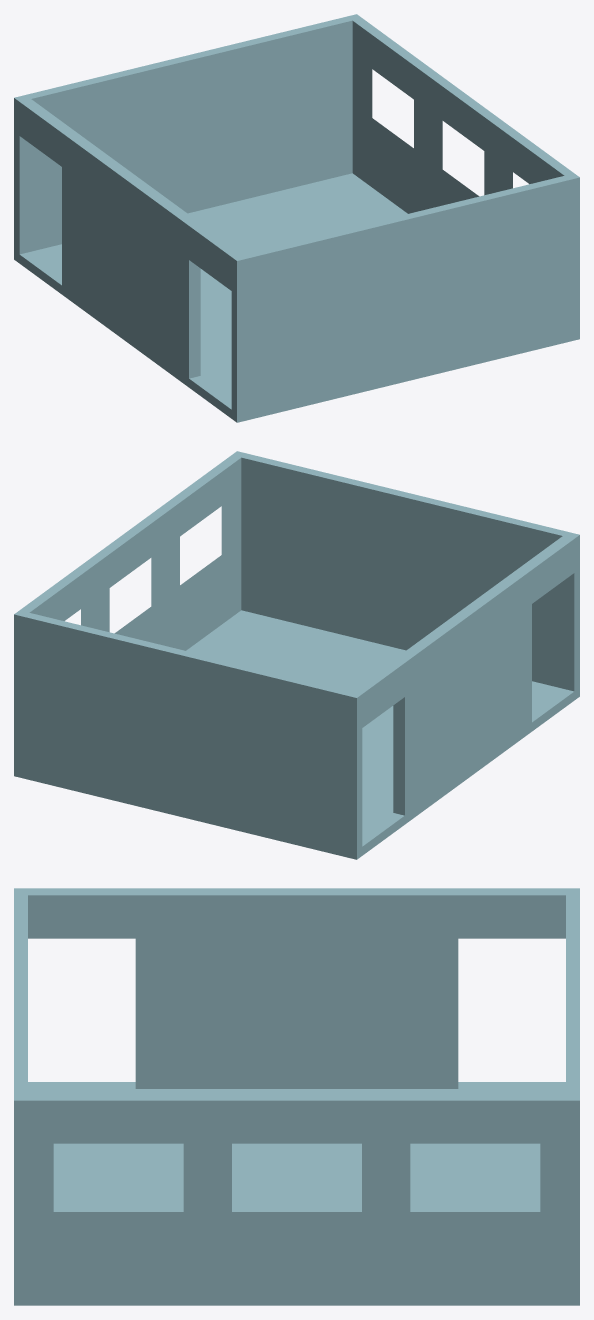
Rendered from sala_SEM_TETO.fbx.
The picture shows the model from 3 angles, top to bottom: view 1: azimuth 30°, elevation 25°; view 2: azimuth 150°, elevation 25°; view 3: azimuth 270°, elevation 25°; orthographic projection. The views are drawn at different scales.
Visible parts, largest first — view 1: Cube.001; view 2: Cube.001; view 3: Cube.001.
Boxes of the visible parts, bbox=[...] form: Cube.001: bbox=[14, 14, 579, 422]; Cube.001: bbox=[14, 451, 579, 859]; Cube.001: bbox=[14, 888, 579, 1305].
Size of the model in its own units: 811 by 366 by 914.
